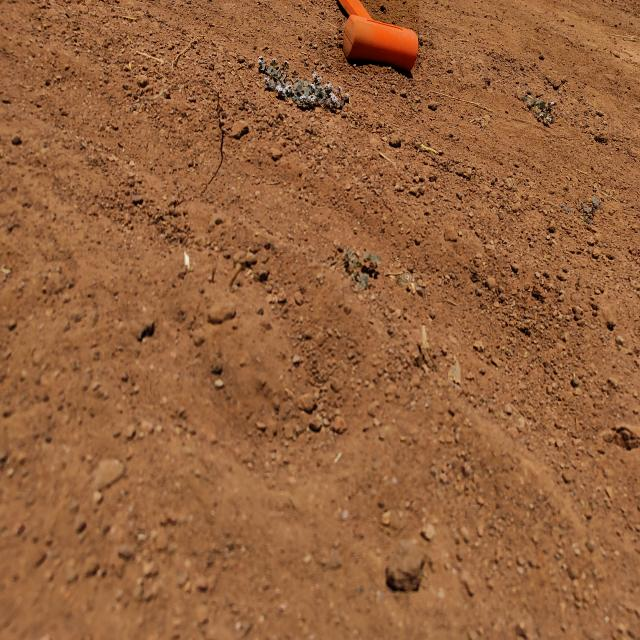Orange_hammer: (337, 0, 419, 74)
